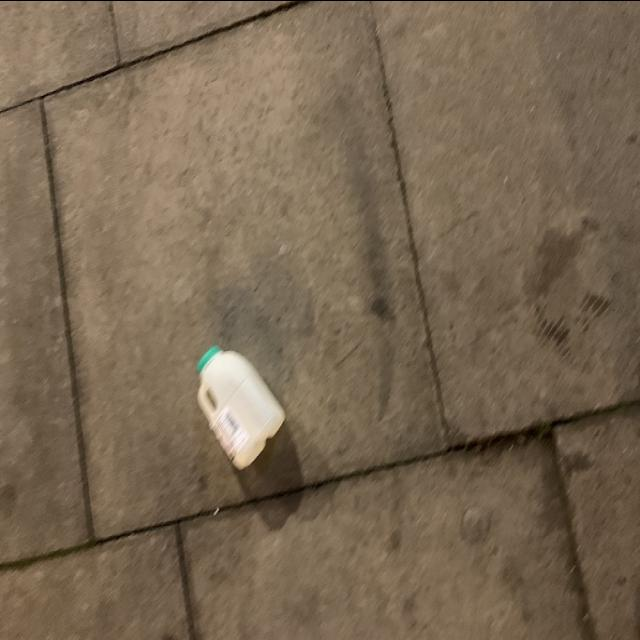litter: (196, 340, 285, 471)
